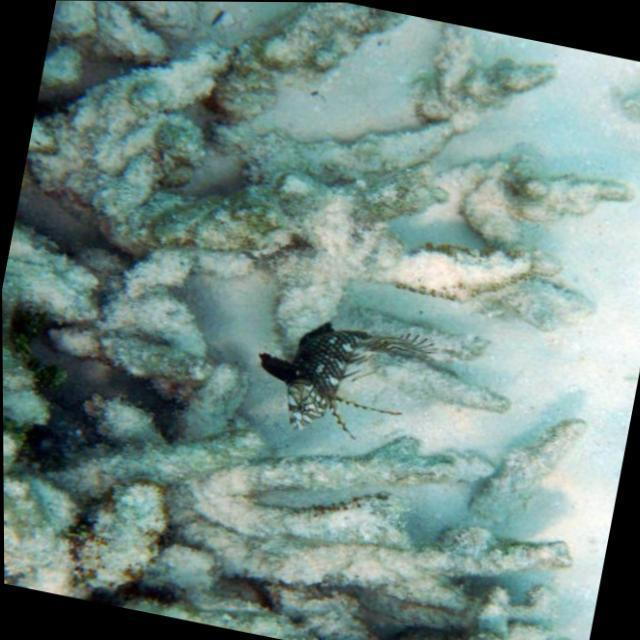Dead Coral: (8, 0, 640, 369), (2, 353, 608, 640)
